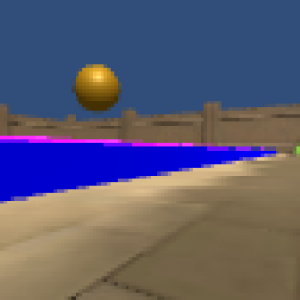goodGoal: (292, 144, 300, 156)
goodGoalMulti: (70, 64, 122, 114)
platform: (1, 148, 281, 197)
ramp: (1, 133, 195, 150)
